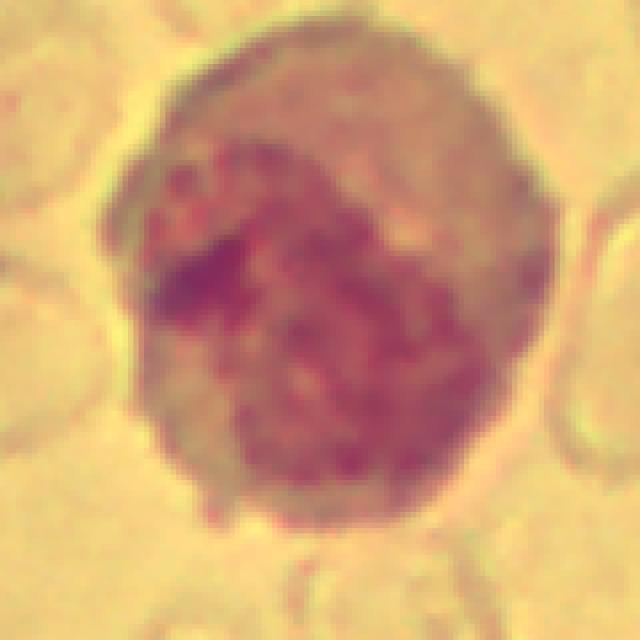WBC: (53, 0, 592, 560)
